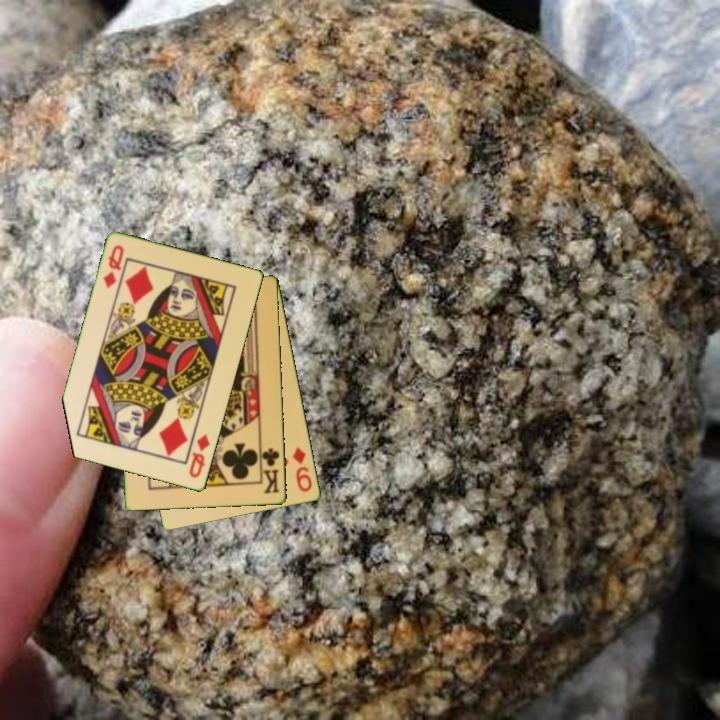9d: (289, 443, 315, 495)
Kc: (258, 442, 283, 496)
Qd: (186, 431, 213, 481), (100, 241, 127, 291)
